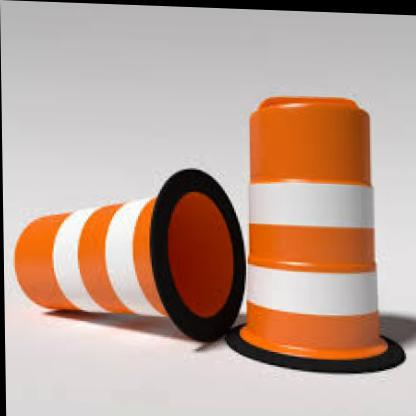obstacle: (10, 154, 235, 336), (247, 79, 387, 355)
